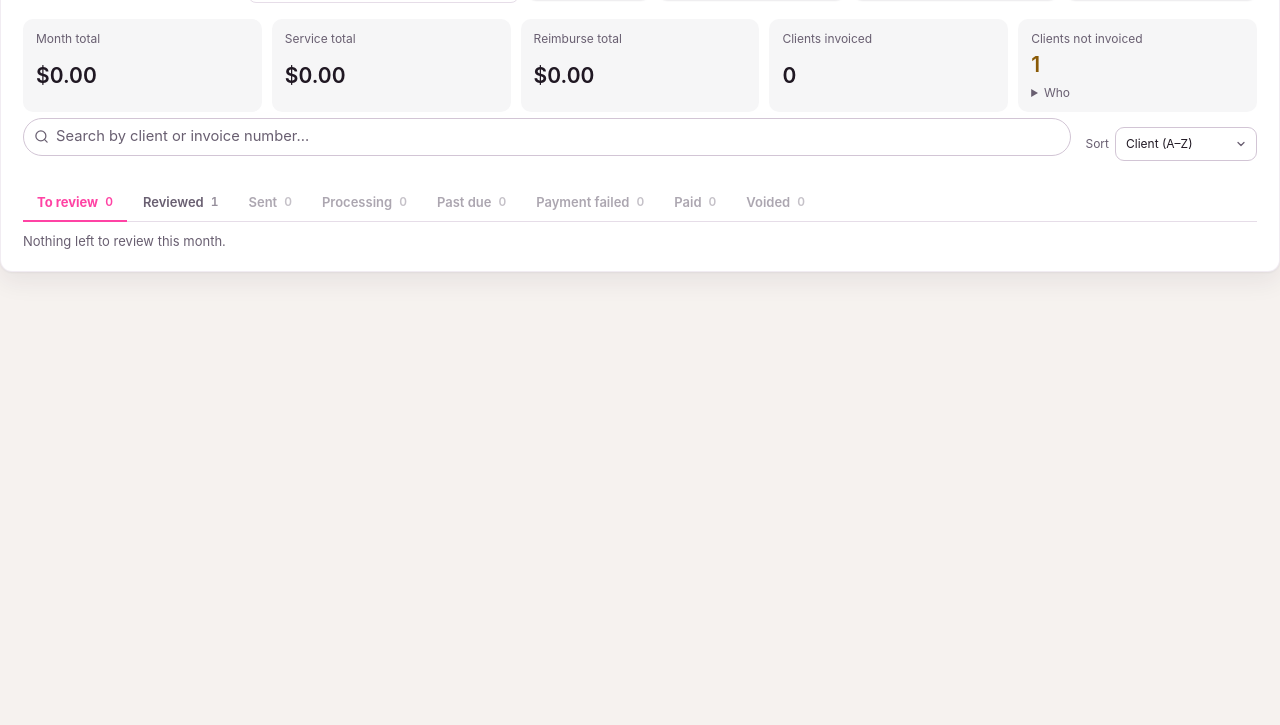
Send on a marked invoice › sends to the server first, then asks with the sentence and a Send anyway
The image size is (1280, 725).
Click the tab "Reviewed 1". click: [181, 203]
box: [129,184,232,222]
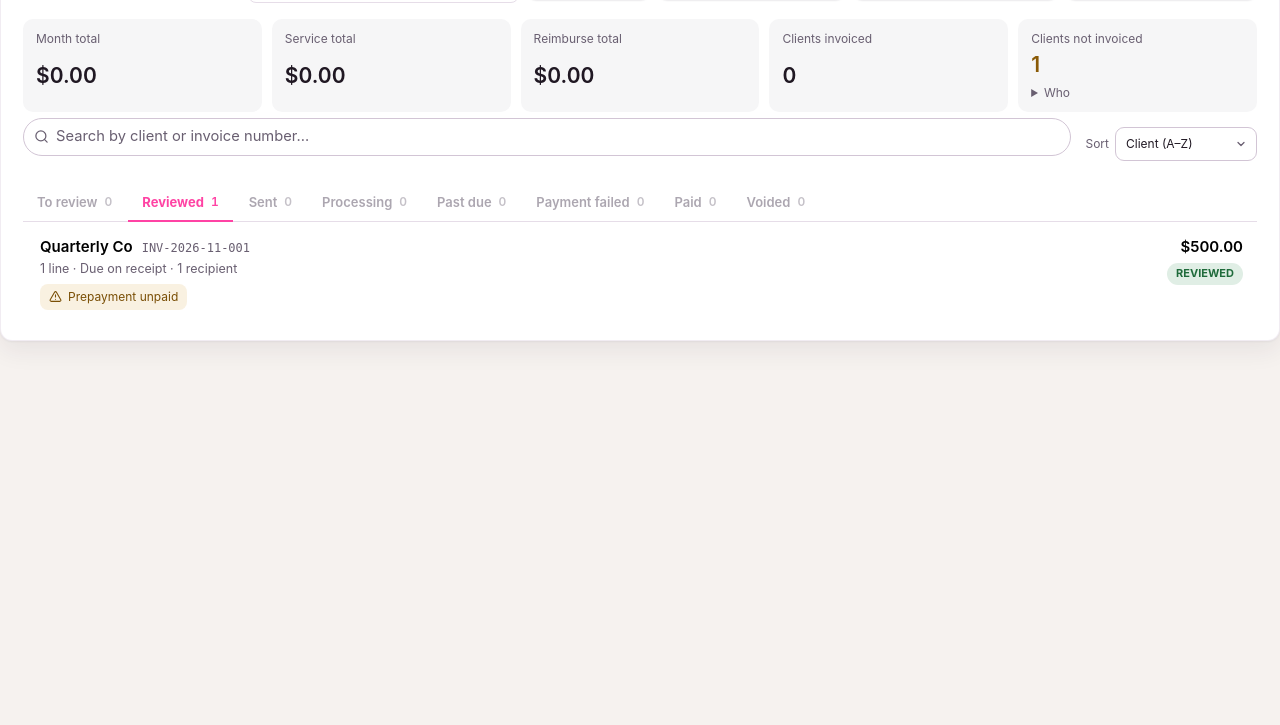
Click the text "INV-2026-11-001". click: [196, 249]
box: [142,240,250,258]
(page scrolled)
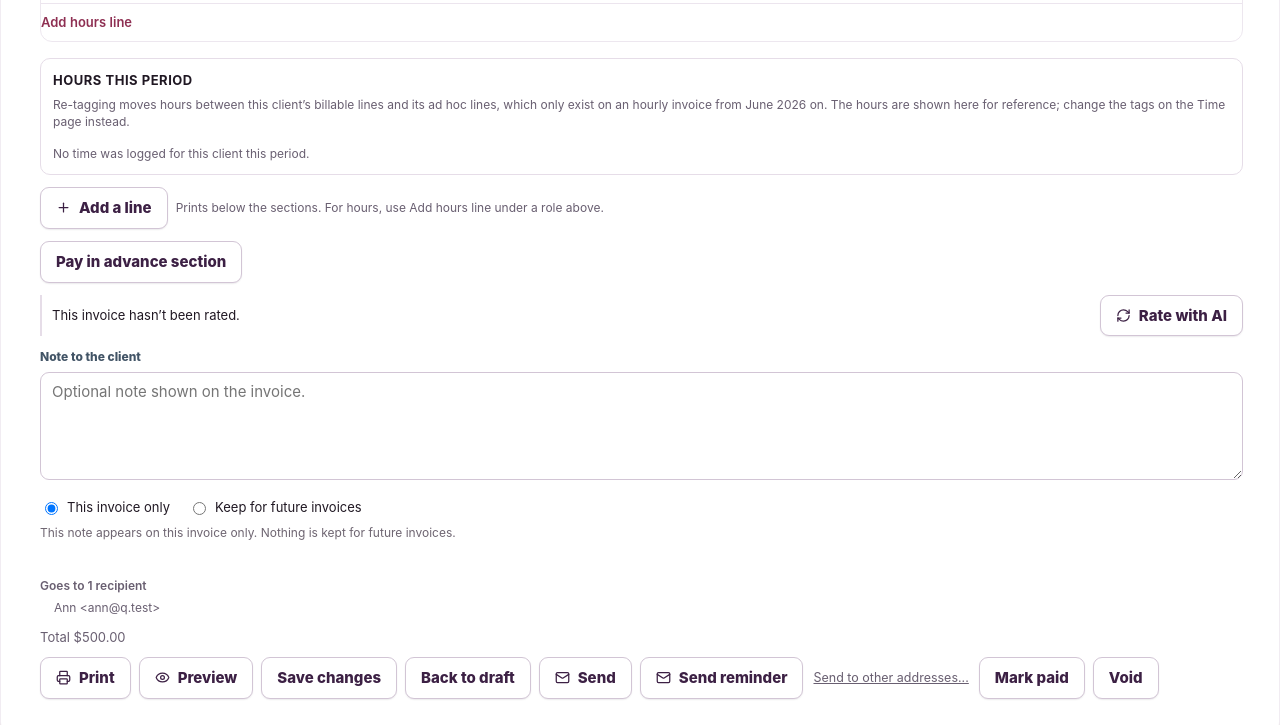
Click the button "Send". click: [585, 678]
box: [539,657,632,699]
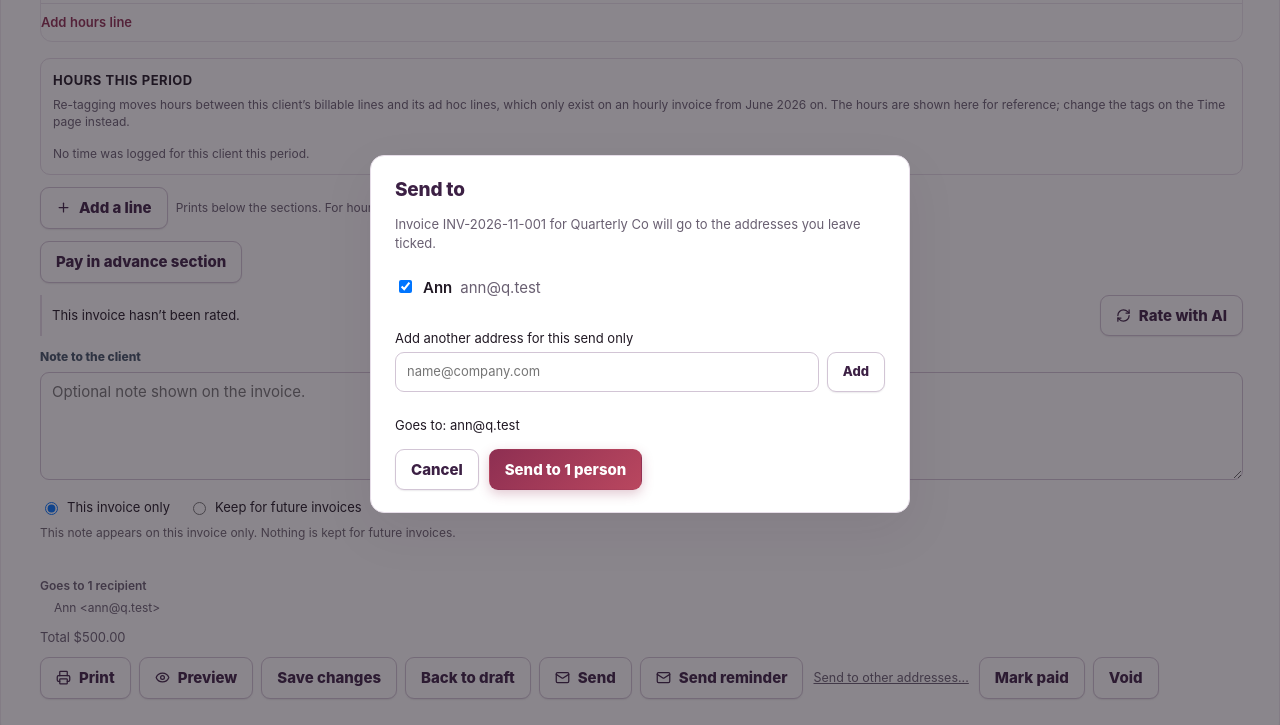
Click the button "Send to 1 person". click: [566, 470]
box: [489,449,642,490]
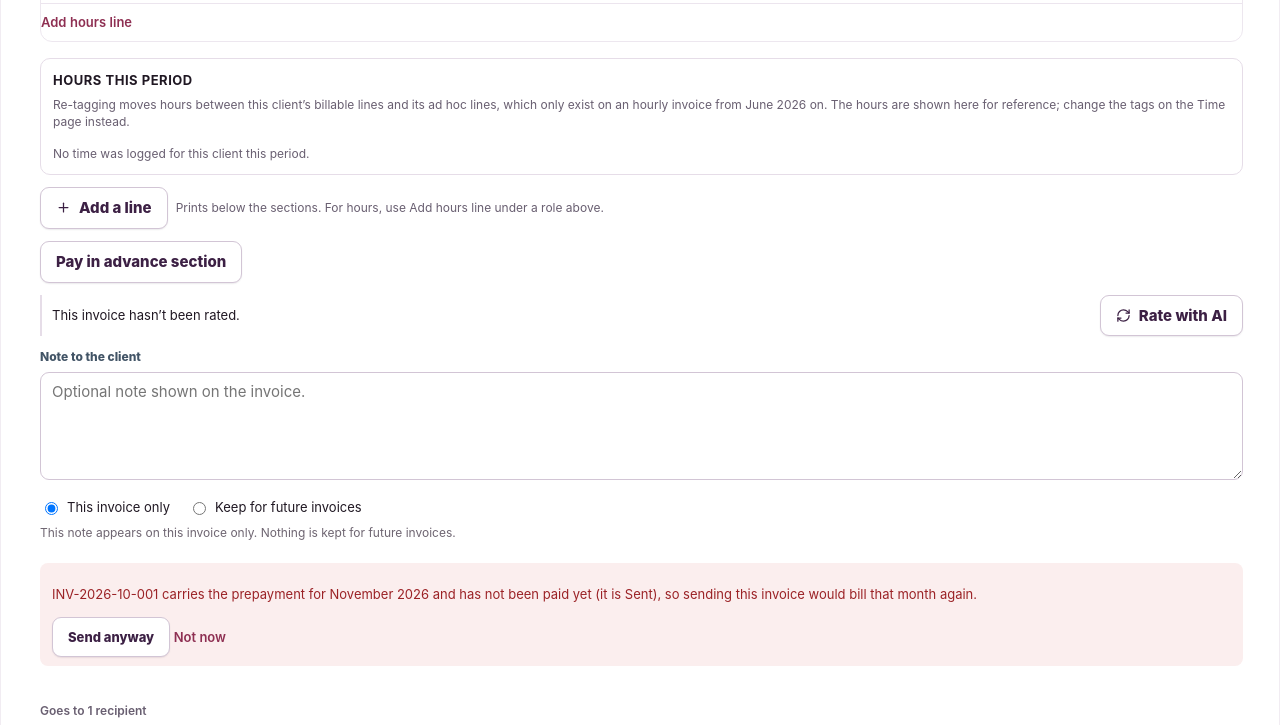
Expected: the message shows "INV-2026-10-001 carries the prepayment for November 2026 and has not been paid yet (it is Sent), so sending this invoice would bill that month again.", [52,586,977,602]
Expected: the button "Send anyway" is enabled, [52,617,170,657]
